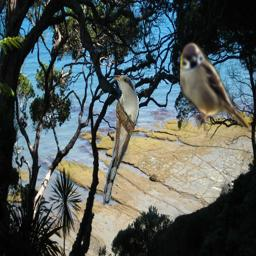Cuckoo: (103, 75, 139, 205)
Sparrow: (180, 41, 251, 132)
